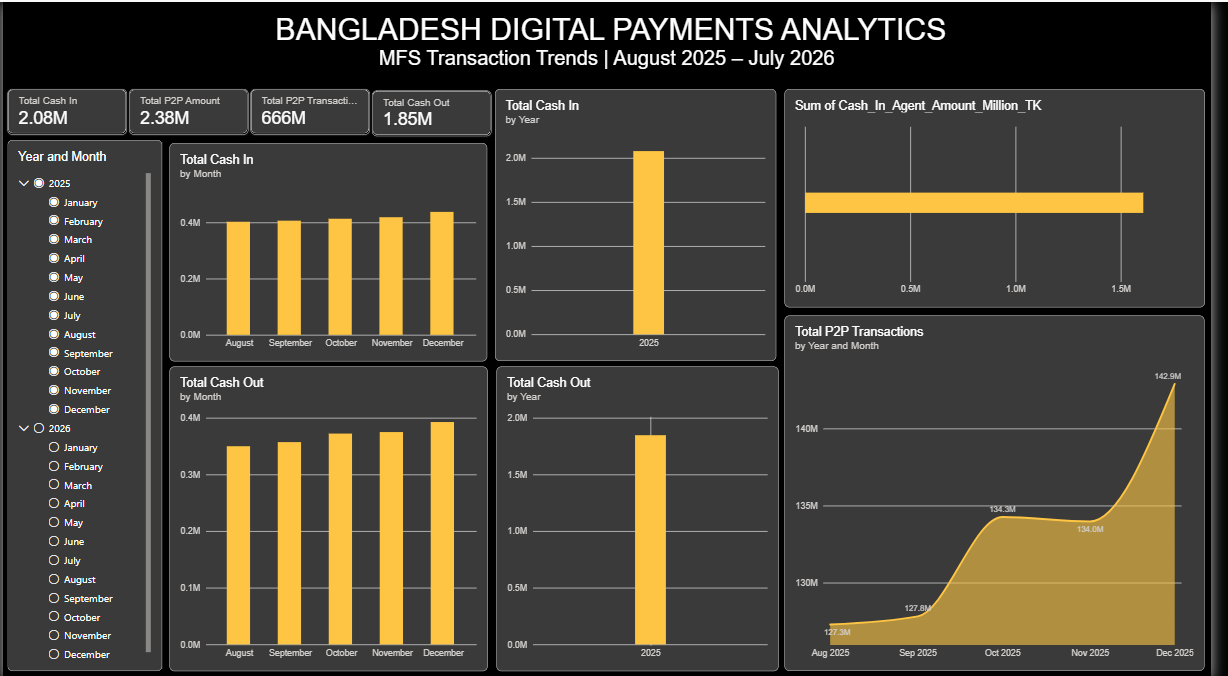

What the dashboard file says about the page in this screenshot:
{"tool":"powerbi","page":{"name":"Page 1","canvas":[1920,1080],"ordinal":0},"visuals":[{"type":"cardVisual","fields":{"Data":["Clean_MFS_Part3.Total Cash Out"]},"box":[587.1,139.9,190,72.9],"z":0},{"type":"cardVisual","fields":{"Data":["Clean_MFS_Part3.Total P2P Amount"]},"box":[199.9,139.2,190,72.9],"z":1000},{"type":"cardVisual","fields":{"Data":["Clean_MFS_Part3.Total P2P Transactions"]},"box":[393.5,139.2,190,72.9],"z":2000},{"type":"textbox","box":[0,16.7,1920.7,105],"z":3000},{"type":"barChart","fields":{"Y":["Sum(Clean_MFS_Part3.Cash_In_Agent_Amount_Million_TK)"]},"box":[1242.5,138.8,668.8,347.5],"z":4000},{"type":"columnChart","fields":{"Category":["Clean_MFS_Part3.Period.Variation.Date Hierarchy.Year","Clean_MFS_Part3.Period.Variation.Date Hierarchy.Month"],"Y":["Clean_MFS_Part3.Total Cash In"]},"box":[782.5,138.3,447.5,432.5],"z":5000},{"type":"clusteredColumnChart","fields":{"Category":["Clean_MFS_Part3.Period.Variation.Date Hierarchy.Month"],"Y":["Clean_MFS_Part3.Total Cash In"]},"box":[265,223.3,505,347.5],"z":6000},{"type":"clusteredColumnChart","fields":{"Category":["Clean_MFS_Part3.Period.Variation.Date Hierarchy.Month"],"Y":["Clean_MFS_Part3.Total Cash Out"]},"box":[264.8,579.8,505.8,484.3],"z":7000},{"type":"lineChart","fields":{"Category":["Clean_MFS_Part3.Period.Variation.Date Hierarchy.Year","Clean_MFS_Part3.Period.Variation.Date Hierarchy.Month"],"Y":["Clean_MFS_Part3.Total P2P Transactions"]},"box":[1243.1,498.7,668.1,565.5],"z":8000},{"type":"listSlicer","fields":{"Values":["Clean_MFS_Part3.Period.Variation.Date Hierarchy.Year","Clean_MFS_Part3.Period.Variation.Date Hierarchy.Month"]},"box":[7.2,219.5,245.7,844.6],"z":9000},{"type":"cardVisual","fields":{"Data":["Clean_MFS_Part3.Total Cash In"]},"box":[6.4,139.1,190,72.5],"z":10000},{"type":"clusteredColumnChart","fields":{"Category":["Clean_MFS_Part3.Period.Variation.Date Hierarchy.Year"],"Y":["Clean_MFS_Part3.Total Cash Out"]},"box":[785,579.8,448.6,484.3],"z":11000}]}

Visuals, with their boxes in screenshot pixels (x1, y1, x2, y2), scaled from the page's 1920x1080 canvas onto the 1228x676 screenshot:
cardVisual - Clean_MFS_Part3.Total Cash Out: {"x1": 375, "y1": 88, "x2": 497, "y2": 133}
cardVisual - Clean_MFS_Part3.Total P2P Amount: {"x1": 128, "y1": 87, "x2": 249, "y2": 133}
cardVisual - Clean_MFS_Part3.Total P2P Transactions: {"x1": 252, "y1": 87, "x2": 373, "y2": 133}
textbox: {"x1": 0, "y1": 10, "x2": 1227, "y2": 76}
barChart - Sum(Clean_MFS_Part3.Cash_In_Agent_Amount_Million_TK): {"x1": 795, "y1": 87, "x2": 1222, "y2": 304}
columnChart - Clean_MFS_Part3.Period.Variation.Date Hierarchy.Year x Clean_MFS_Part3.Period.Variation.Date Hierarchy.Month: {"x1": 500, "y1": 87, "x2": 787, "y2": 357}
clusteredColumnChart - Clean_MFS_Part3.Period.Variation.Date Hierarchy.Month x Clean_MFS_Part3.Total Cash In: {"x1": 169, "y1": 140, "x2": 492, "y2": 357}
clusteredColumnChart - Clean_MFS_Part3.Period.Variation.Date Hierarchy.Month x Clean_MFS_Part3.Total Cash Out: {"x1": 169, "y1": 363, "x2": 493, "y2": 666}
lineChart - Clean_MFS_Part3.Period.Variation.Date Hierarchy.Year x Clean_MFS_Part3.Period.Variation.Date Hierarchy.Month: {"x1": 795, "y1": 312, "x2": 1222, "y2": 666}
listSlicer - Clean_MFS_Part3.Period.Variation.Date Hierarchy.Year x Clean_MFS_Part3.Period.Variation.Date Hierarchy.Month: {"x1": 5, "y1": 137, "x2": 162, "y2": 666}
cardVisual - Clean_MFS_Part3.Total Cash In: {"x1": 4, "y1": 87, "x2": 126, "y2": 132}
clusteredColumnChart - Clean_MFS_Part3.Period.Variation.Date Hierarchy.Year x Clean_MFS_Part3.Total Cash Out: {"x1": 502, "y1": 363, "x2": 789, "y2": 666}
